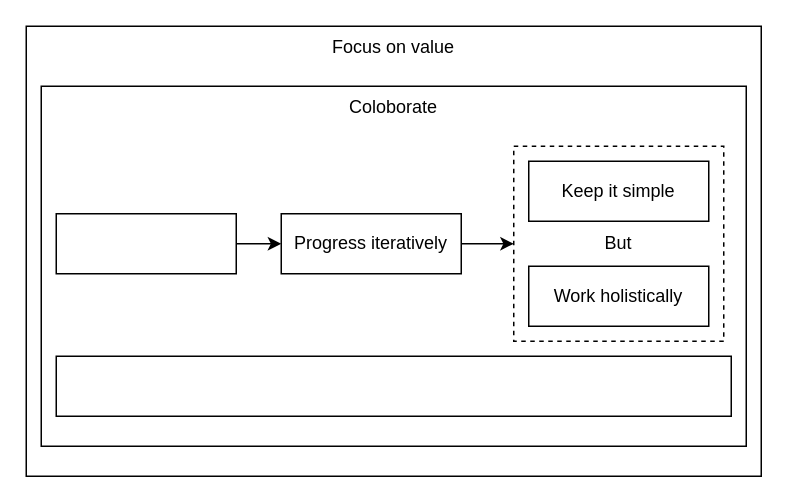
Image size: 788x503. Some labels were removed from this diagram. The shapes that lost their labels are listed below. From the top down, each one's centre as x and y in pixels, then its label:
At (x=145, y=243): "Start where you are".
At (x=393, y=385): "Optimize and automate".
